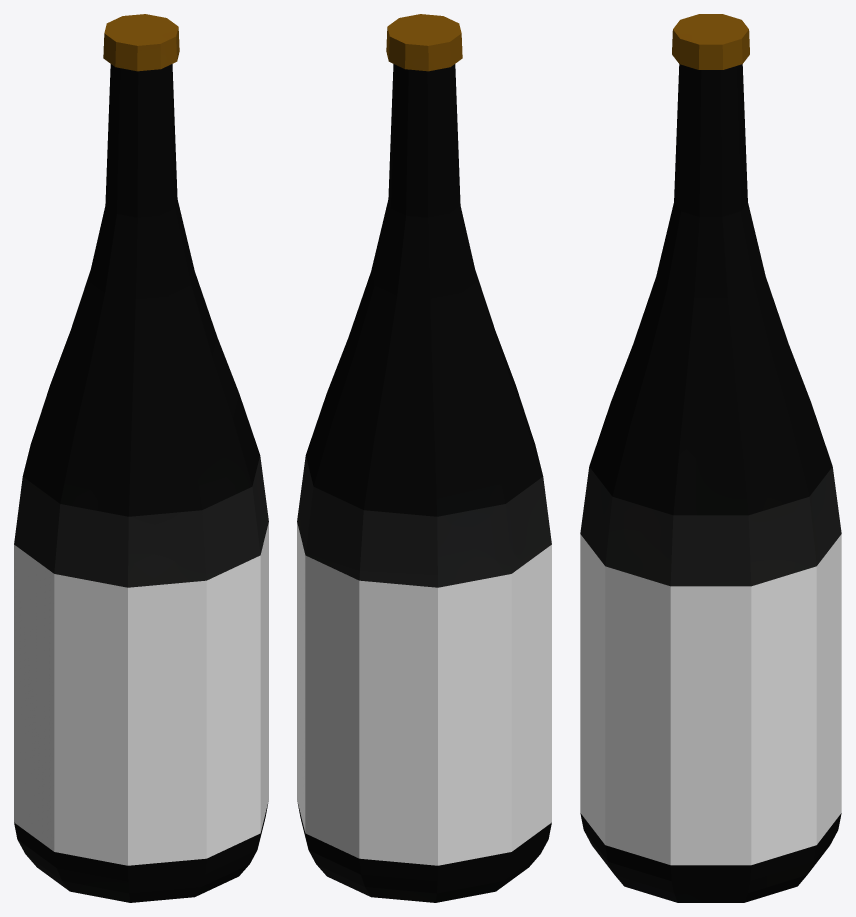
File: Wine_1.fbx
The picture shows the model from 3 angles, left to right: view 1: azimuth 30°, elevation 25°; view 2: azimuth 150°, elevation 25°; view 3: azimuth 270°, elevation 25°; orthographic projection.
Parts seen in each view (by area): view 1: Wine 1; view 2: Wine 1; view 3: Wine 1.
Boxes of the visible parts, x1,y1,x2,y2 form: Wine 1: (14,14,268,902); Wine 1: (297,14,551,902); Wine 1: (580,14,841,902).
Size of the model in its own units: 5.47 by 20.16 by 5.75.
